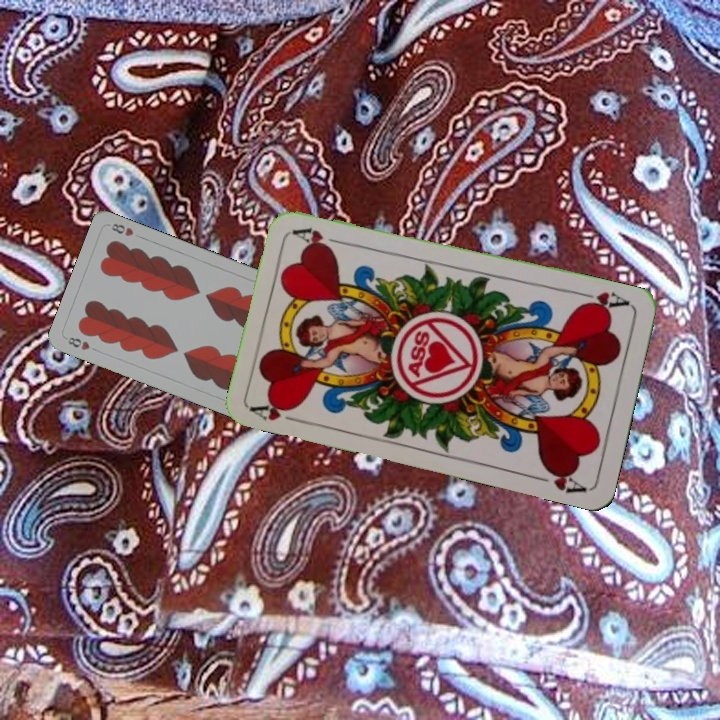H8: (62, 333, 92, 353)
HA: (248, 396, 307, 427), (574, 287, 633, 315)
